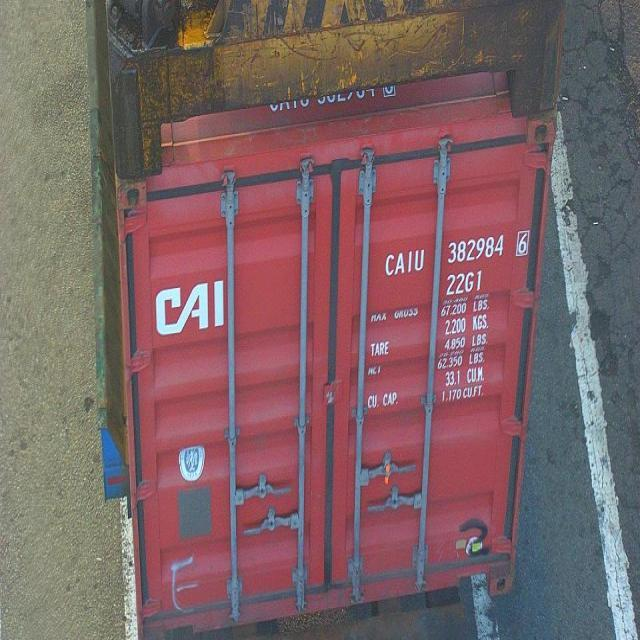ISO: (446, 267, 483, 296)
container_number: (382, 224, 531, 280)
